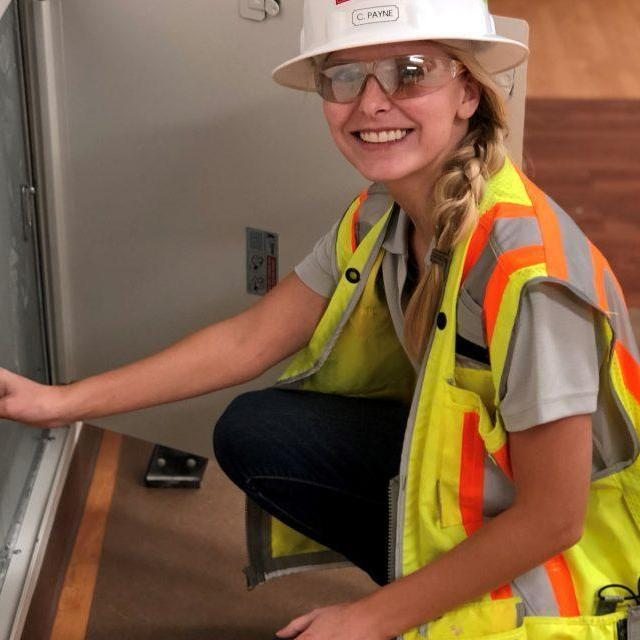Hardhat: (268, 0, 531, 89)
NO-Mask: (342, 121, 448, 180)
Person: (0, 0, 640, 640)
Safety Vest: (240, 172, 640, 640)
